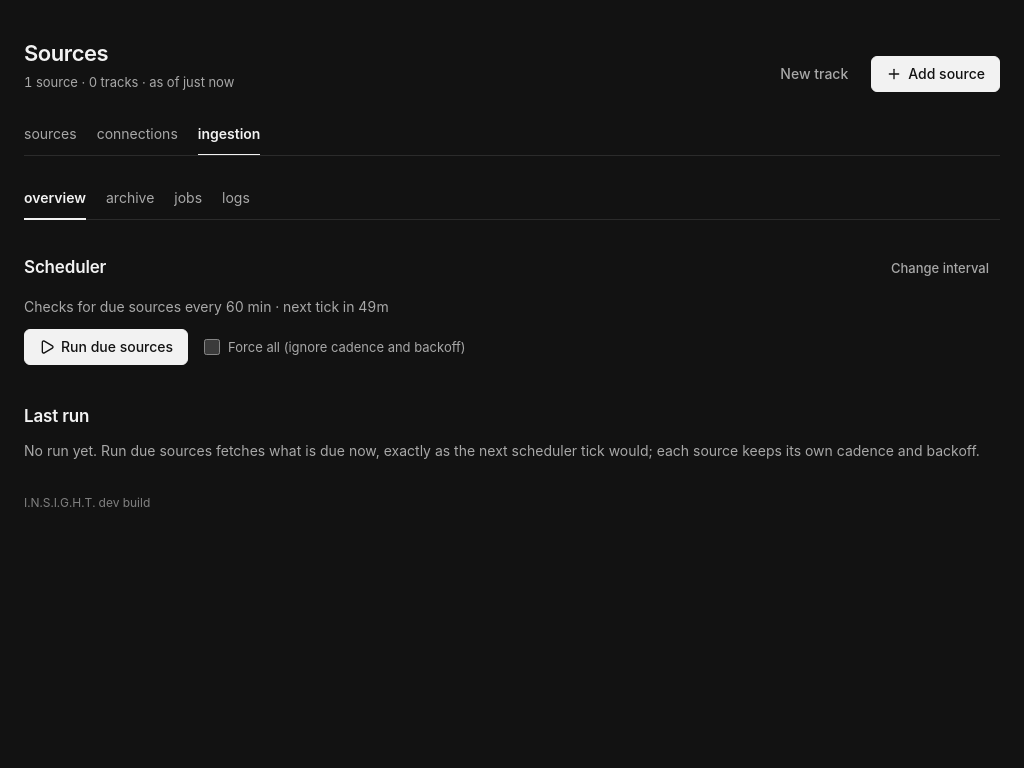
it: Sources → ingestion tab › is the third tab; Run due sources runs a cycle and shows its report
Expected: the tabs read "sources", "connections", "ingestion", in this order, [24,116,77,156]; [97,116,178,156]; [198,116,260,156]
Click the button "Run due sources" at (106, 347), box [24,329,188,365]
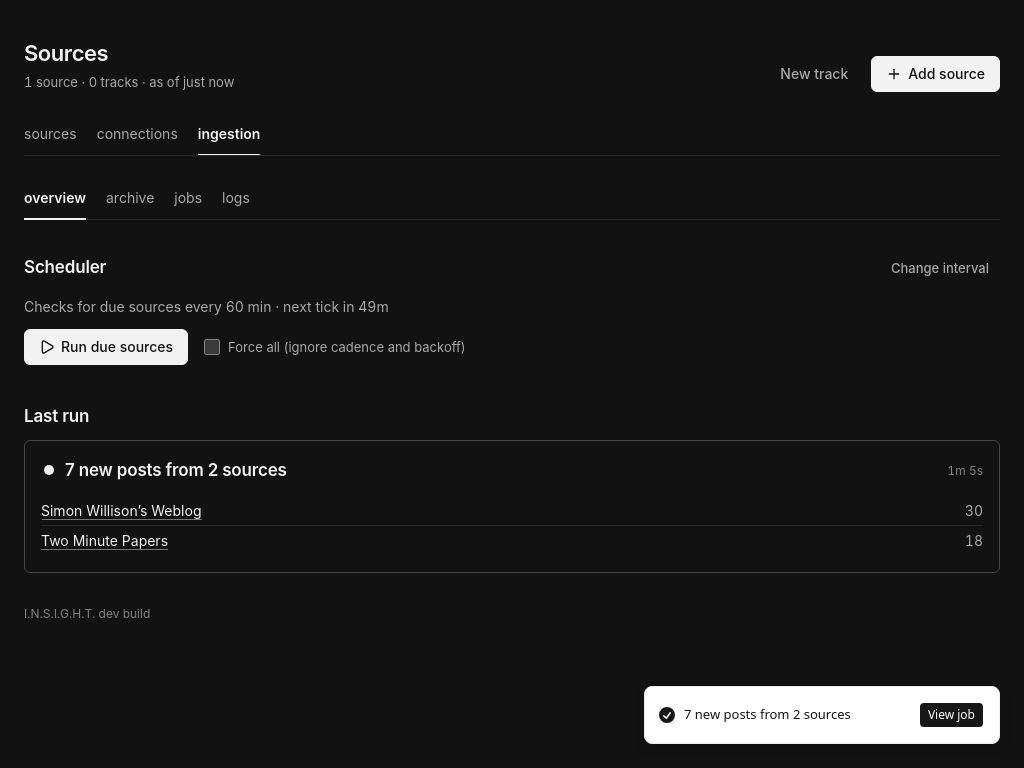
Expected: the heading "7 new posts from 2 sources" is shown, [41,457,287,484]
